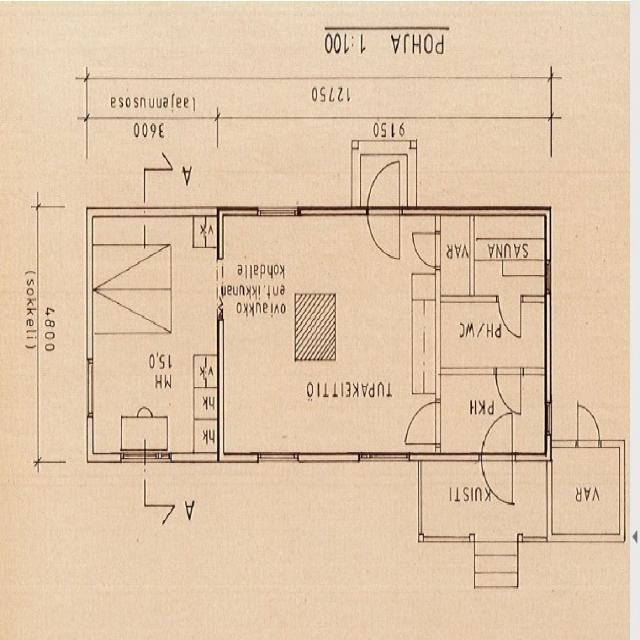door: (367, 160, 400, 215), (367, 207, 400, 262), (482, 452, 512, 506), (482, 408, 512, 461), (406, 402, 441, 444), (495, 367, 521, 412), (412, 234, 441, 268), (498, 296, 521, 336), (577, 408, 599, 448)
